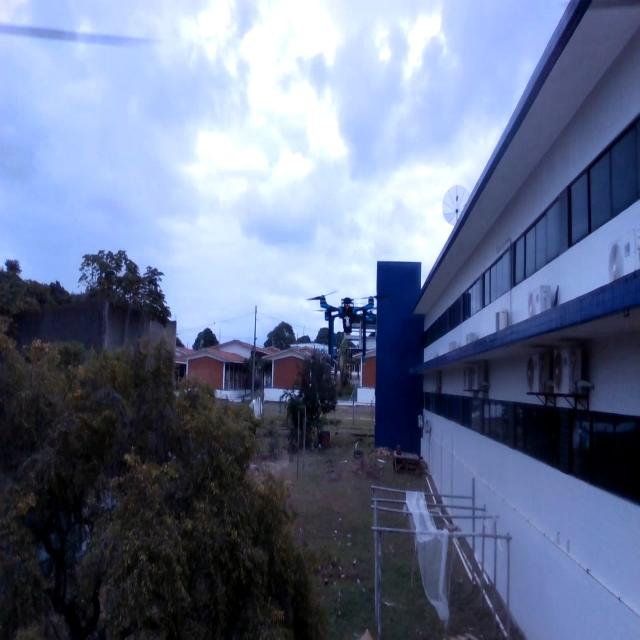-uav-: (294, 271, 404, 381)
